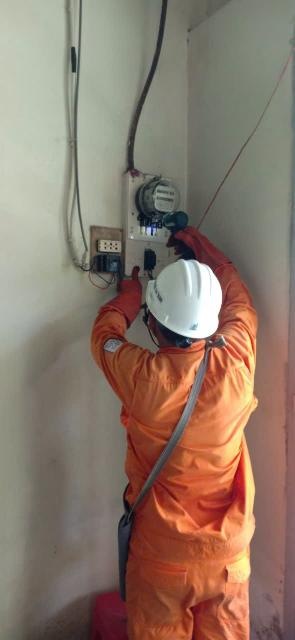gloves: (172, 221, 243, 277), (99, 261, 145, 329)
helmet: (136, 258, 231, 338)
